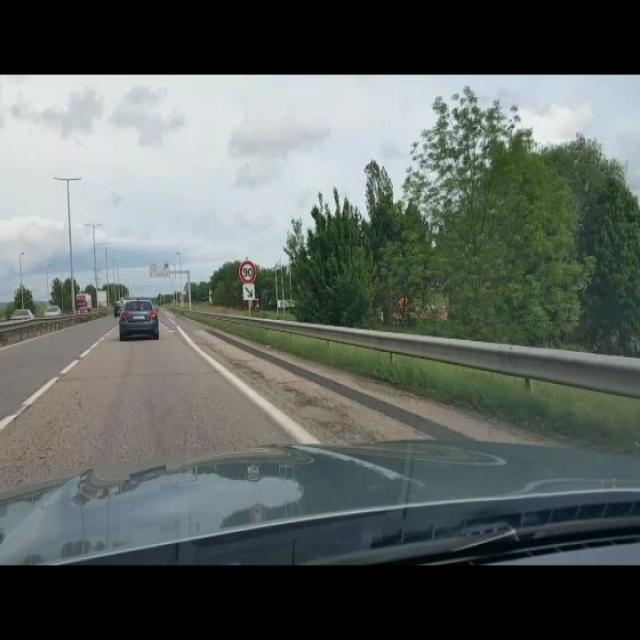direction: (148, 260, 170, 279)
side_right: (242, 284, 256, 302)
speed_90: (239, 259, 258, 283)
